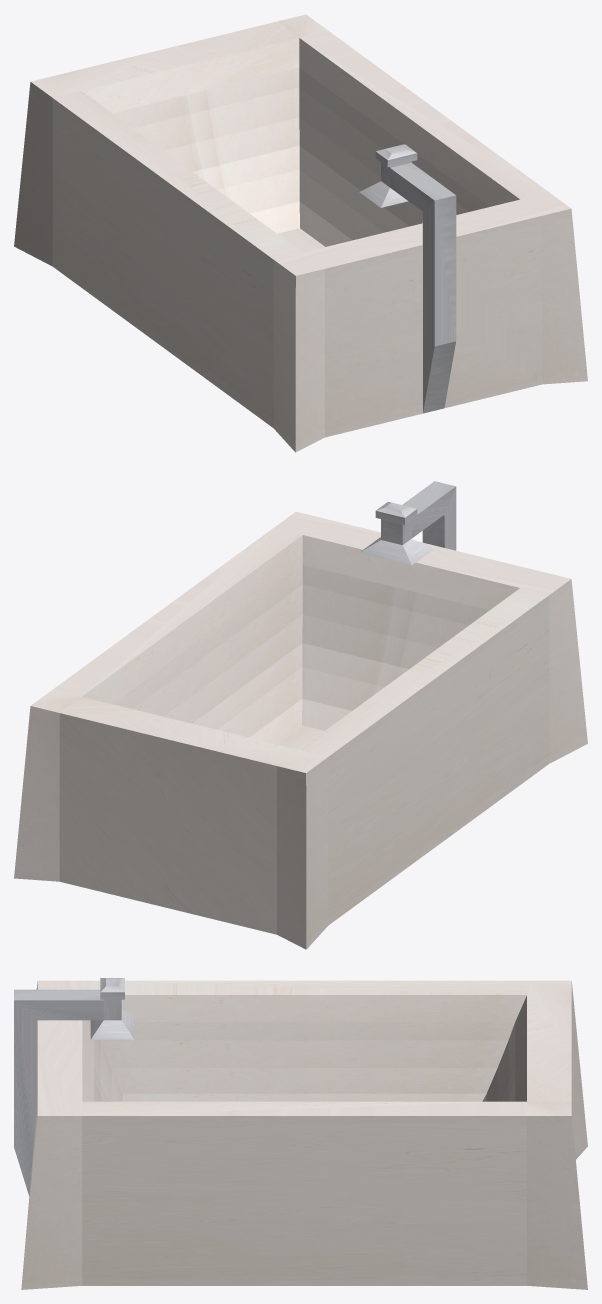
Rendered from bathtub.obj.
3 renders of one model, top to bottom at view 1: azimuth 30°, elevation 25°; view 2: azimuth 150°, elevation 25°; view 3: azimuth 270°, elevation 25°, orthographic.
Visible parts, largest first — view 1: Cube; view 2: Cube; view 3: Cube.
Part boxes in pixels (x1,y1,x2,y2): Cube: (14, 14, 587, 452); Cube: (14, 481, 587, 949); Cube: (14, 978, 587, 1289).
Size of the model in its own units: 3.34 by 2.56 by 5.65.
Materials: 1 (1 with a texture image).
